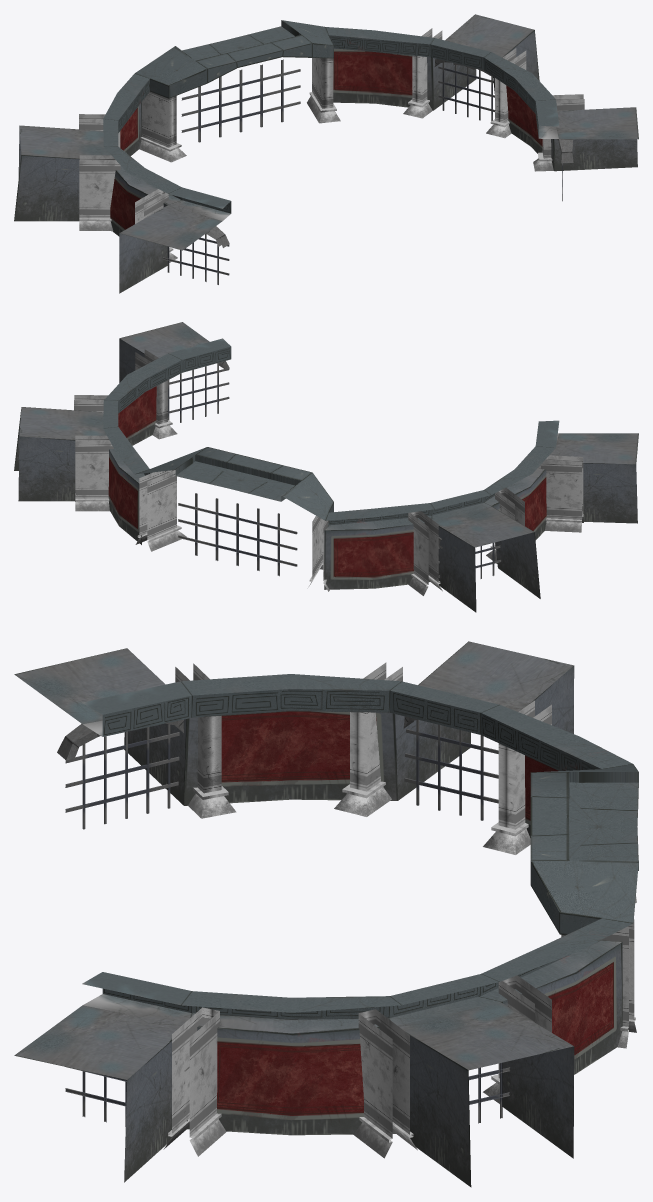
File: Building_Main.fbx
3 views of the same model, one above another, from view 1: azimuth 30°, elevation 25°; view 2: azimuth 150°, elevation 25°; view 3: azimuth 270°, elevation 25° (orthographic). The views are drawn at different scales.
Parts seen in each view (by area): view 1: Building_Main; view 2: Building_Main; view 3: Building_Main.
Part boxes in pixels (bbox=[...]): Building_Main: bbox=[14, 14, 638, 293]; Building_Main: bbox=[14, 322, 638, 612]; Building_Main: bbox=[14, 641, 638, 1187].
Size of the model in its own units: 3061 by 508 by 1837.
1 material, 1 textured.
